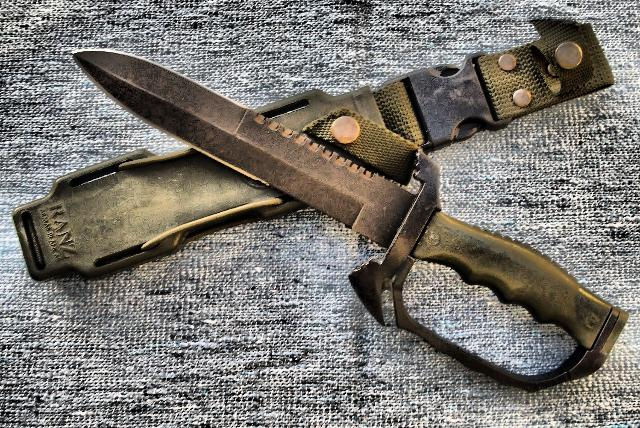knife: (66, 40, 418, 252)
